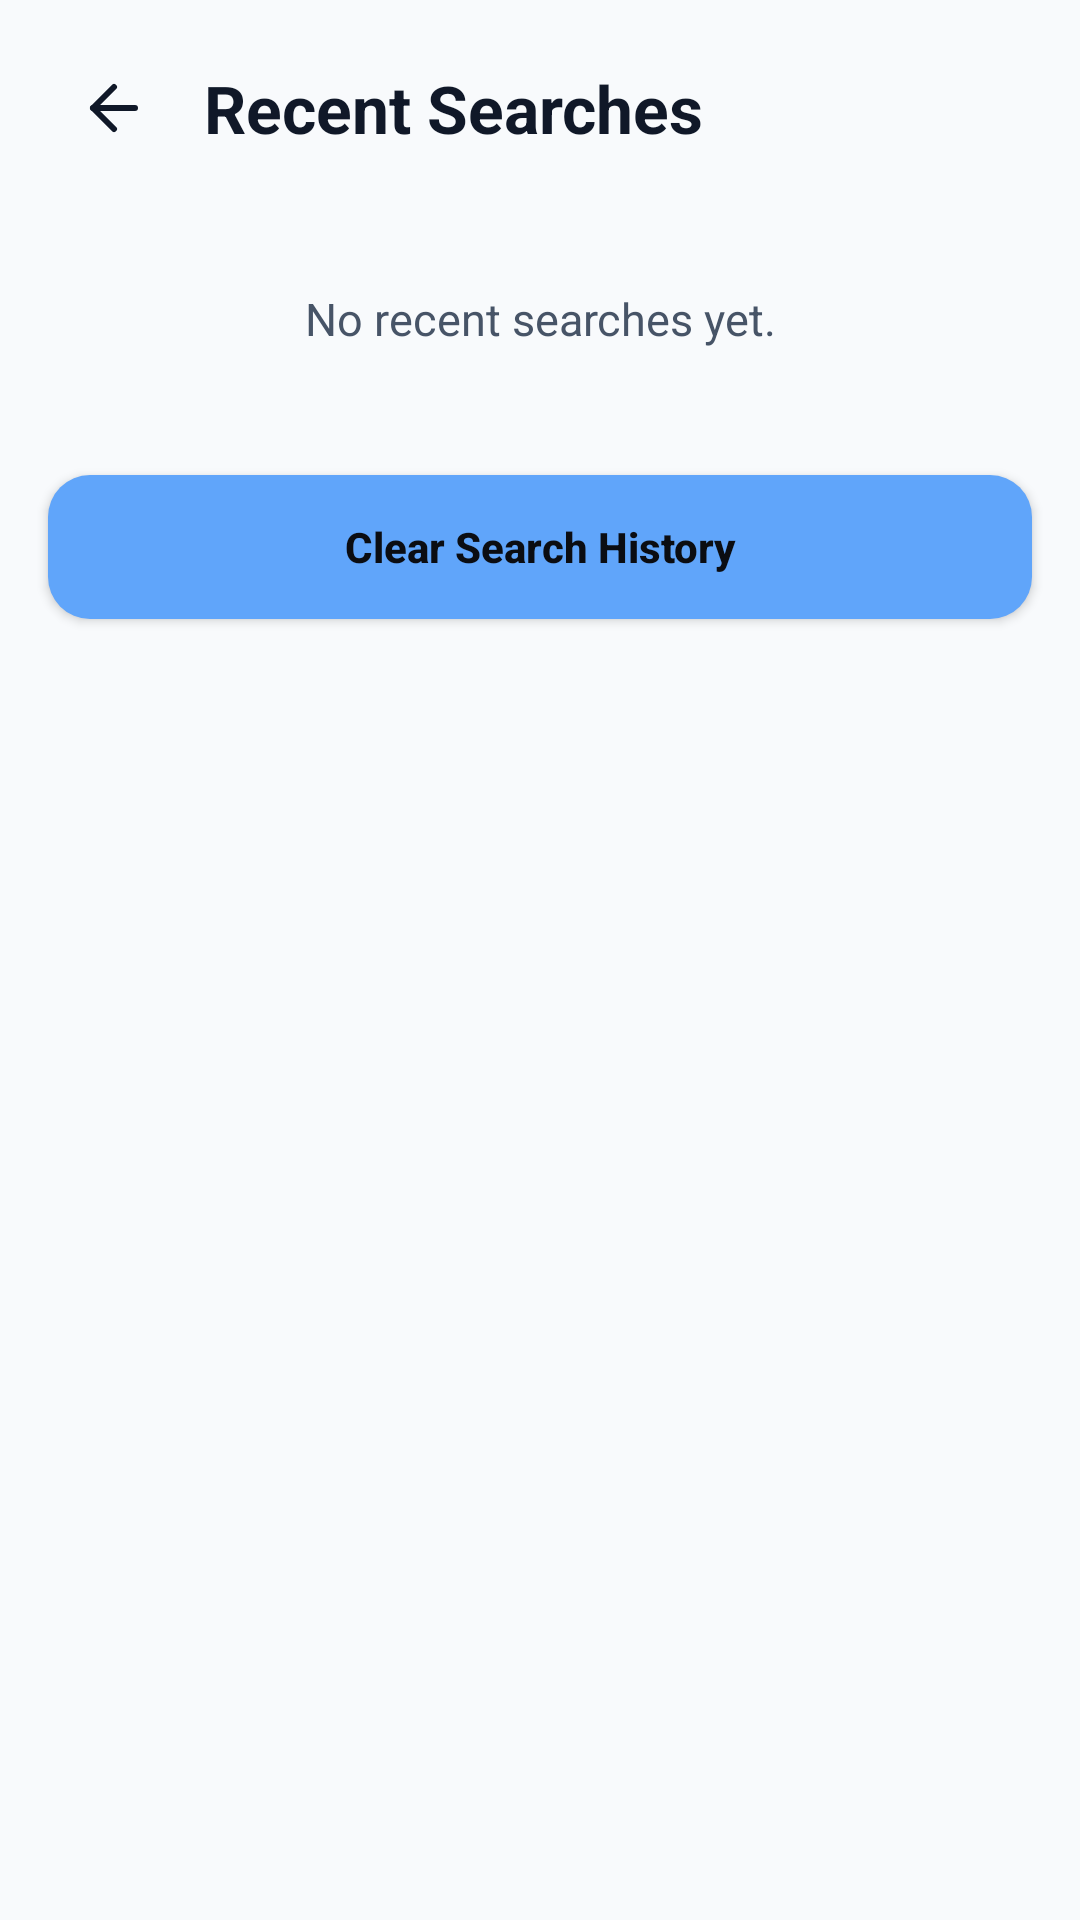

Screen size 1080w x 1920h. Icon name, then its box in pixels as box(x1, y1, x2, y2):
Previous: box(90, 84, 138, 132)
